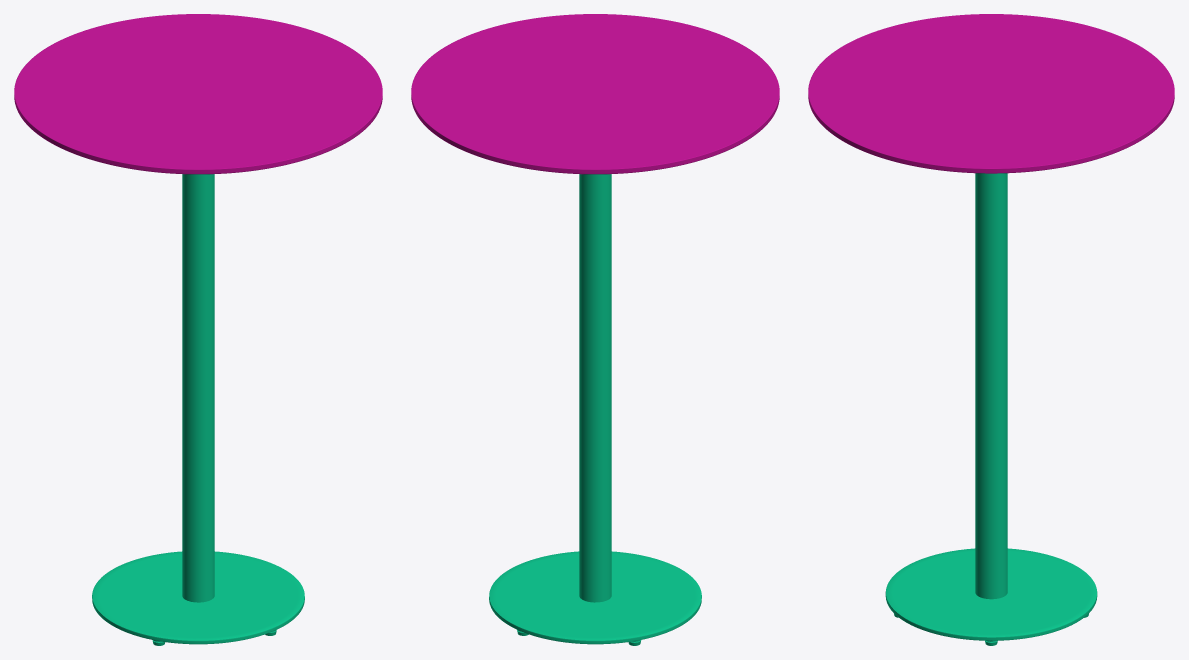
Rendered from 421-629-config2.fbx.
3 views of the same model, side by side, from view 1: azimuth 30°, elevation 25°; view 2: azimuth 150°, elevation 25°; view 3: azimuth 270°, elevation 25° (orthographic).
Visible parts, largest first — view 1: w0m_tabletopRoCe70, x0_base, x0_leg, w2d_tabletopRoCe70; view 2: w0m_tabletopRoCe70, x0_base, x0_leg, w2d_tabletopRoCe70; view 3: w0m_tabletopRoCe70, x0_base, x0_leg, w2d_tabletopRoCe70.
Part boxes in pixels (x1,y1,x2,y2): w0m_tabletopRoCe70: [14, 14, 382, 169]; x0_base: [92, 551, 304, 644]; x0_leg: [182, 174, 214, 602]; w2d_tabletopRoCe70: [14, 96, 382, 174]; w0m_tabletopRoCe70: [411, 14, 779, 169]; x0_base: [489, 551, 701, 644]; x0_leg: [579, 174, 611, 602]; w2d_tabletopRoCe70: [411, 96, 779, 174]; w0m_tabletopRoCe70: [808, 14, 1174, 168]; x0_base: [885, 548, 1097, 640]; x0_leg: [975, 173, 1007, 599]; w2d_tabletopRoCe70: [808, 96, 1174, 173].
Bounding box in the file's own units: 70.14 × 108 × 70.14.
